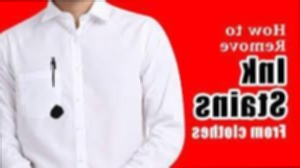ink: (50, 105, 64, 118)
